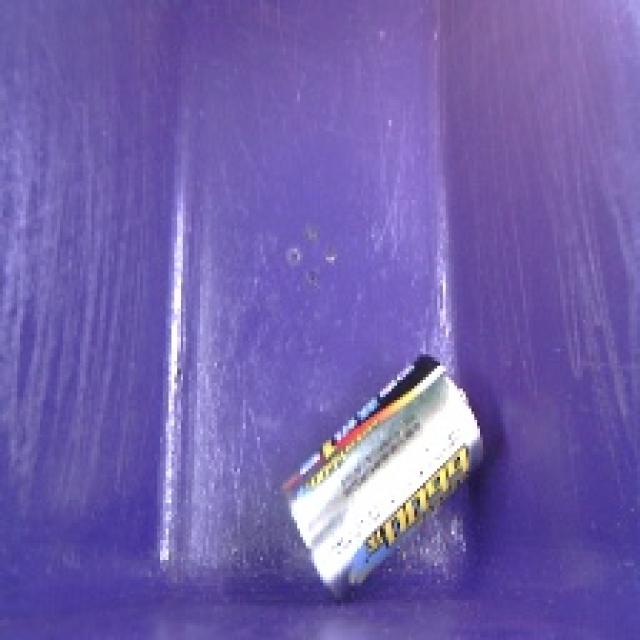battery: (274, 344, 499, 612)
